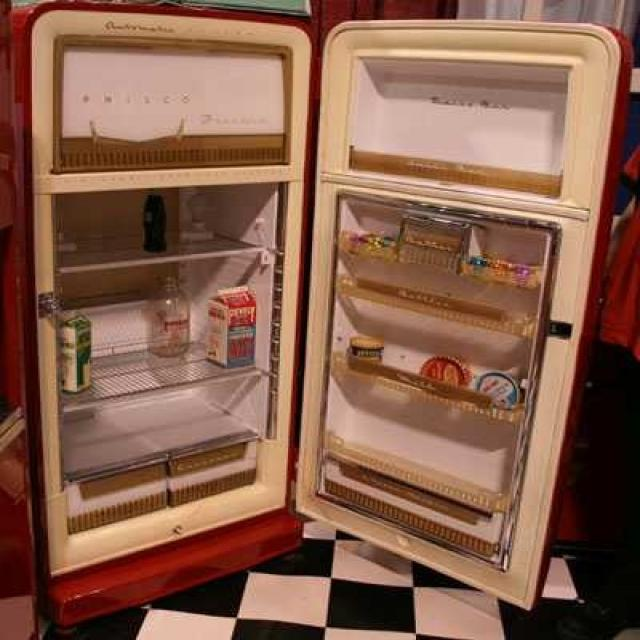refrigerator: (22, 8, 634, 598)
